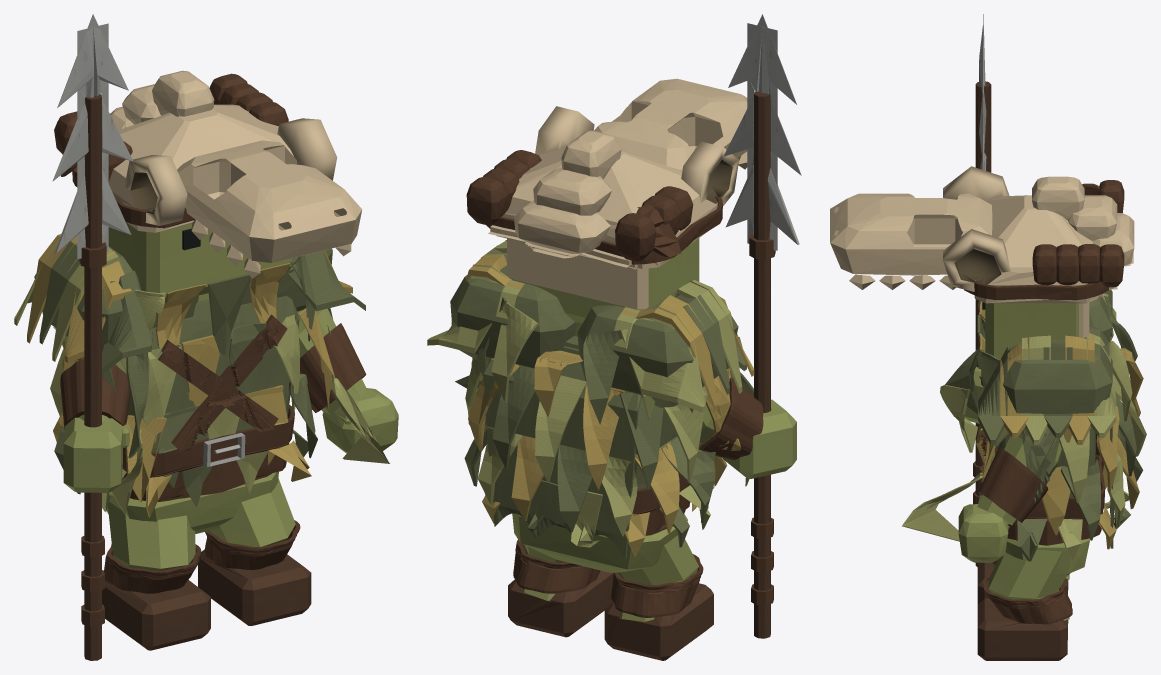
The model's file is host_07.glb.
3 renders of one model, left to right at view 1: azimuth 30°, elevation 25°; view 2: azimuth 150°, elevation 25°; view 3: azimuth 270°, elevation 25°, orthographic. The views are drawn at different scales.
Parts seen in each view (by area): view 1: Long crocodile skull forward muzzle, Actual hollow angular source helmet, RIGHT thick diamond harpoon point, RIGHT source harpoon full actual handle, One continuous source skull, LEFT source planted boot, RIGHT source planted boot, Source connected torso mass, RIGHT source short joined leg, RIGHT real compact source grasp source compact planar grasp, Actual pelvis continues lower torso into thighs, LEFT source short joined leg (+45 smaller); view 2: Actual hollow angular source helmet, Long crocodile skull forward muzzle, Source hanging ragged rear cape, RIGHT thick diamond harpoon point, RIGHT source harpoon full actual handle, Source actual continuous rear bone helmet skirt, Wide source reed shoulder mantle -1, Wide source reed shoulder mantle 1, RIGHT source planted boot, Actual pelvis continues lower torso into thighs, LEFT source planted boot, Source raised rear bone cranial block 1.425 (+44 smaller); view 3: Long crocodile skull forward muzzle, Actual hollow angular source helmet, Wide source reed shoulder mantle -1, LEFT source planted boot, One continuous source skull, LEFT source short joined leg, LEFT fitted source hollow leather bracer, LEFT compact curled source fist, Source planted boot exposed brown cuff -1, Source brown fitted crocodile helmet band, Source raised rear bone cranial block 1.565, Source raised rear bone cranial block 1.5 (+40 smaller).
Boxes of the visible parts, bbox=[...] form: Long crocodile skull forward muzzle: bbox=[177, 140, 362, 262]; Actual hollow angular source helmet: bbox=[108, 104, 337, 232]; RIGHT thick diamond harpoon point: bbox=[52, 14, 133, 258]; RIGHT source harpoon full actual handle: bbox=[84, 94, 101, 660]; One continuous source skull: bbox=[108, 222, 295, 296]; LEFT source planted boot: bbox=[198, 549, 311, 625]; RIGHT source planted boot: bbox=[102, 580, 210, 650]; Source connected torso mass: bbox=[128, 295, 299, 452]; RIGHT source short joined leg: bbox=[108, 501, 195, 570]; RIGHT real compact source grasp source compact planar grasp: bbox=[63, 417, 129, 492]; Actual pelvis continues lower torso into thighs: bbox=[106, 471, 278, 533]; LEFT source short joined leg: bbox=[210, 478, 295, 546]; Actual hollow angular source helmet: bbox=[502, 106, 738, 268]; Long crocodile skull forward muzzle: bbox=[594, 78, 747, 170]; Source hanging ragged rear cape: bbox=[483, 346, 641, 558]; RIGHT thick diamond harpoon point: bbox=[723, 14, 801, 250]; RIGHT source harpoon full actual handle: bbox=[754, 91, 770, 638]; Source actual continuous rear bone helmet skirt: bbox=[488, 225, 648, 309]; Wide source reed shoulder mantle -1: bbox=[450, 262, 576, 368]; Wide source reed shoulder mantle 1: bbox=[577, 288, 738, 407]; RIGHT source planted boot: bbox=[604, 583, 713, 660]; Actual pelvis continues lower torso into thighs: bbox=[512, 513, 687, 572]; LEFT source planted boot: bbox=[508, 570, 613, 637]; Source raised rear bone cranial block 1.425: bbox=[514, 200, 610, 253]; Long crocodile skull forward muzzle: bbox=[830, 193, 992, 275]; Actual hollow angular source helmet: bbox=[943, 166, 1098, 303]; Wide source reed shoulder mantle -1: bbox=[1003, 325, 1112, 428]; LEFT source planted boot: bbox=[977, 598, 1068, 660]; One continuous source skull: bbox=[985, 303, 1084, 359]; LEFT source short joined leg: bbox=[988, 550, 1069, 620]; LEFT fitted source hollow leather bracer: bbox=[978, 447, 1048, 522]; LEFT compact curled source fist: bbox=[958, 504, 1009, 562]; Source planted boot exposed brown cuff -1: bbox=[982, 575, 1072, 624]; Source brown fitted crocodile helmet band: bbox=[964, 280, 1108, 300]; Source raised rear bone cranial block 1.565: bbox=[1032, 176, 1084, 220]; Source raised rear bone cranial block 1.5: bbox=[1068, 195, 1117, 240].
Bounding box in the file's own units: 1.17 × 2.16 × 1.11.
12 materials, 11 textured.
